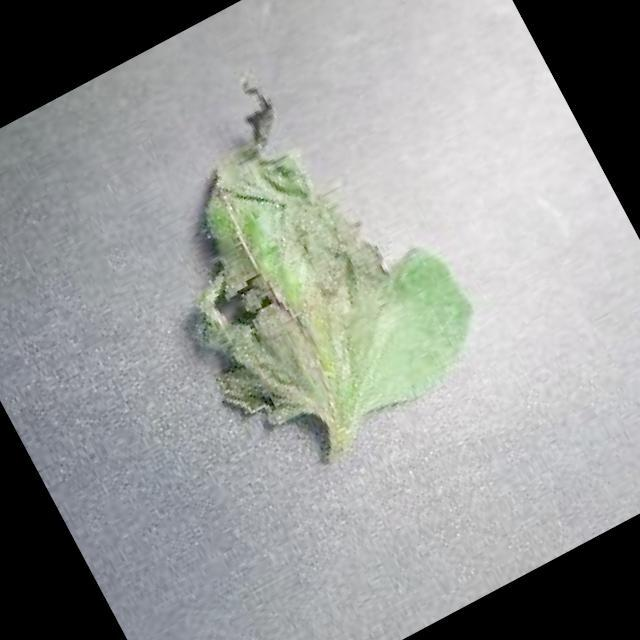Tomato late blight leaf: (77, 26, 504, 492)
